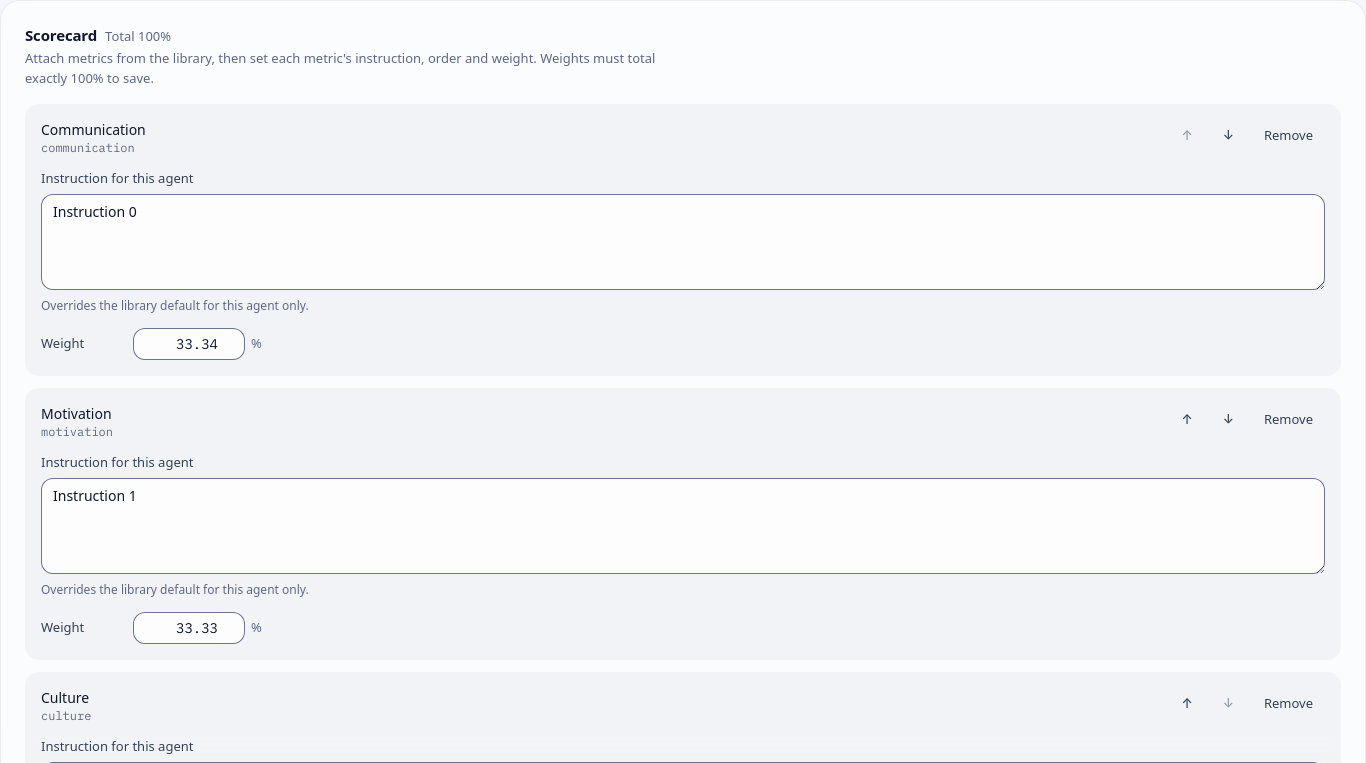
Test case: RoleScorecardEditor › states the running total, and how far OVER 100% it is
This screenshot has width=1366, height=763.
Expected: the text "Communication" is shown, left=41, top=120, right=146, bottom=140
Replace the text in the number field named "Weight for Communication" with "50" at (189, 344), box left=133, top=328, right=245, bottom=360
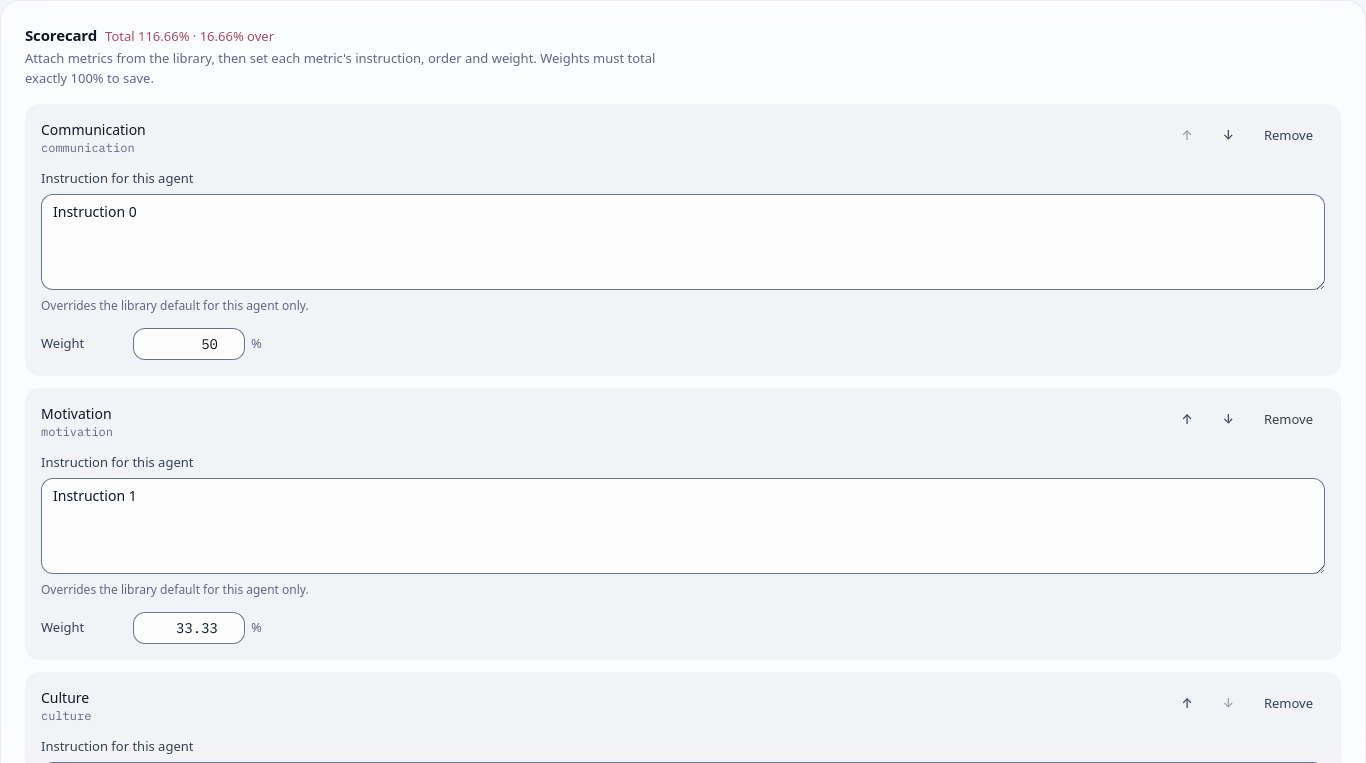
Now the message "Total 116.66% · 16.66% over" is shown, box left=105, top=27, right=274, bottom=45
